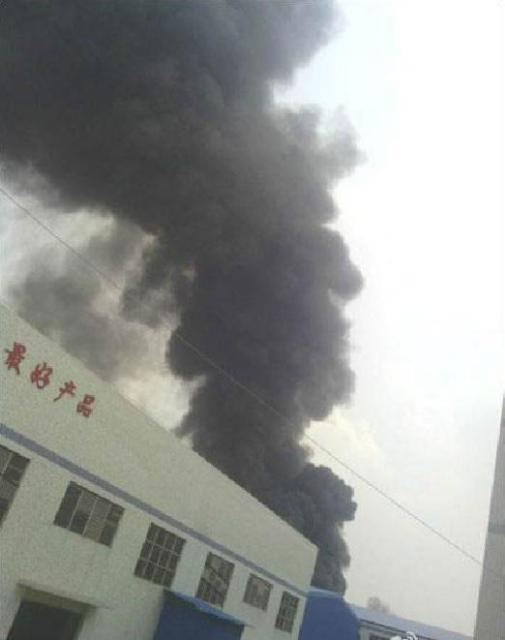smoke: (3, 0, 356, 197), (146, 202, 371, 334), (166, 334, 353, 468), (264, 470, 361, 592)
